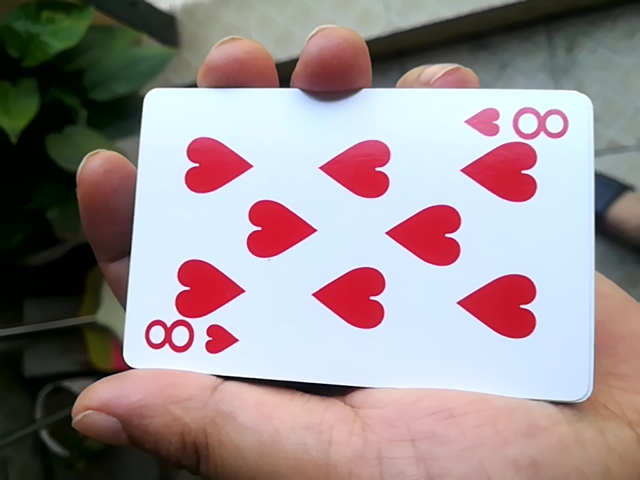hx 8: (120, 82, 596, 392)
